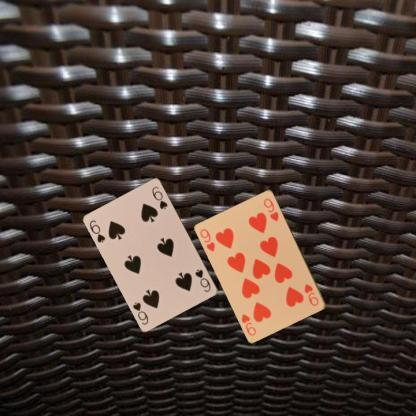6s: (192, 266, 212, 294), (87, 217, 107, 244)
9h: (302, 280, 320, 308), (198, 226, 216, 253)
